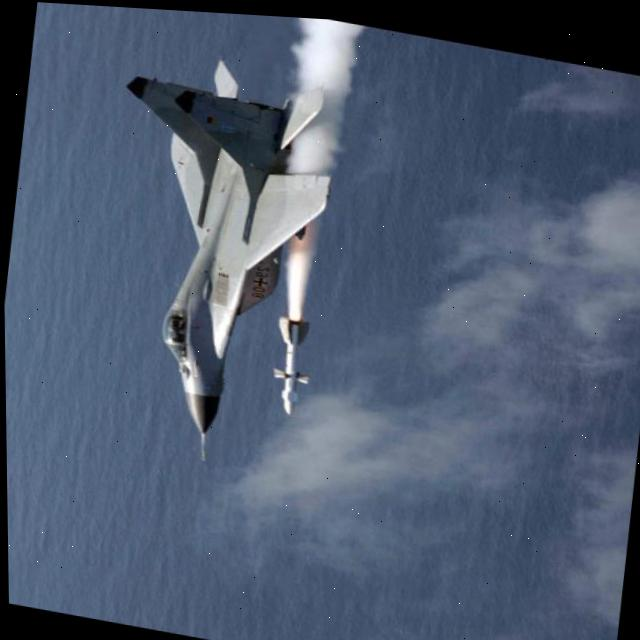missile: (260, 307, 321, 417)
